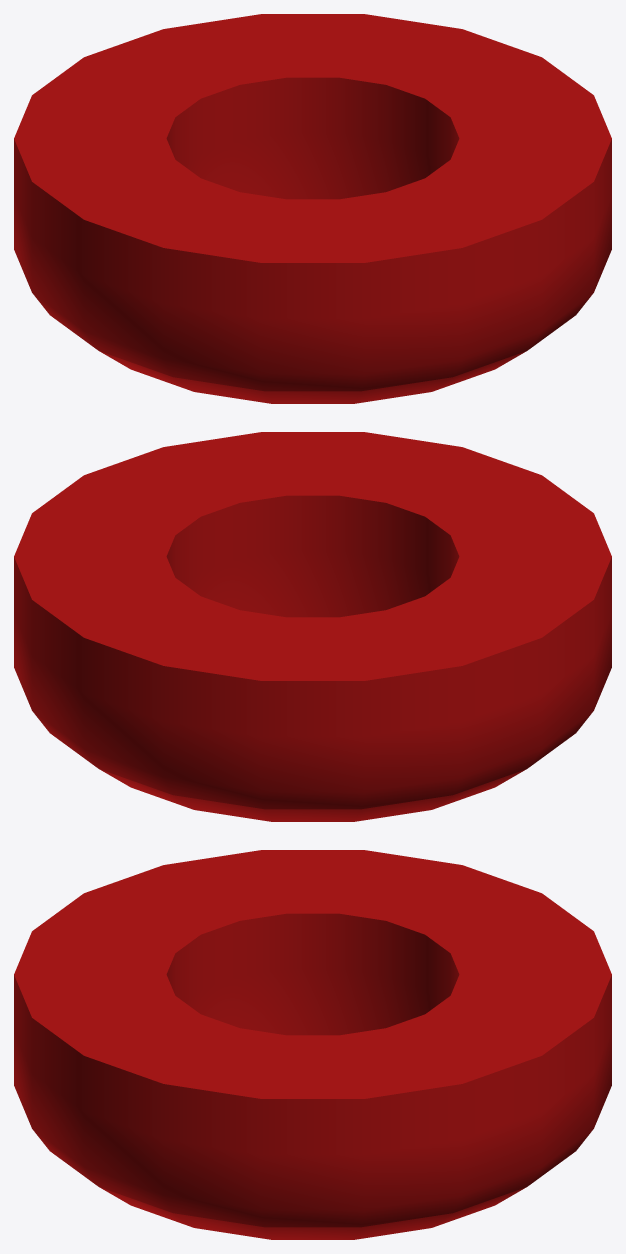
File: small_socket.fbx
3 renders of one model, top to bottom at view 1: azimuth 30°, elevation 25°; view 2: azimuth 150°, elevation 25°; view 3: azimuth 270°, elevation 25°, orthographic.
Parts seen in each view (by area): view 1: small_socket; view 2: small_socket; view 3: small_socket.
Part boxes in pixels (left/top/right/bottom): small_socket: left=14, top=14, right=611, bottom=403; small_socket: left=14, top=432, right=611, bottom=821; small_socket: left=14, top=850, right=611, bottom=1239.
Bounding box in the file's own units: 10.8 × 3.37 × 10.96.
